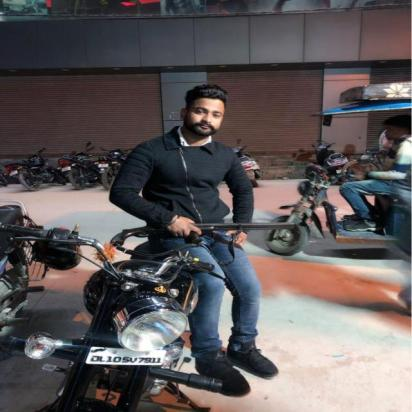Gun: (108, 222, 296, 248)
